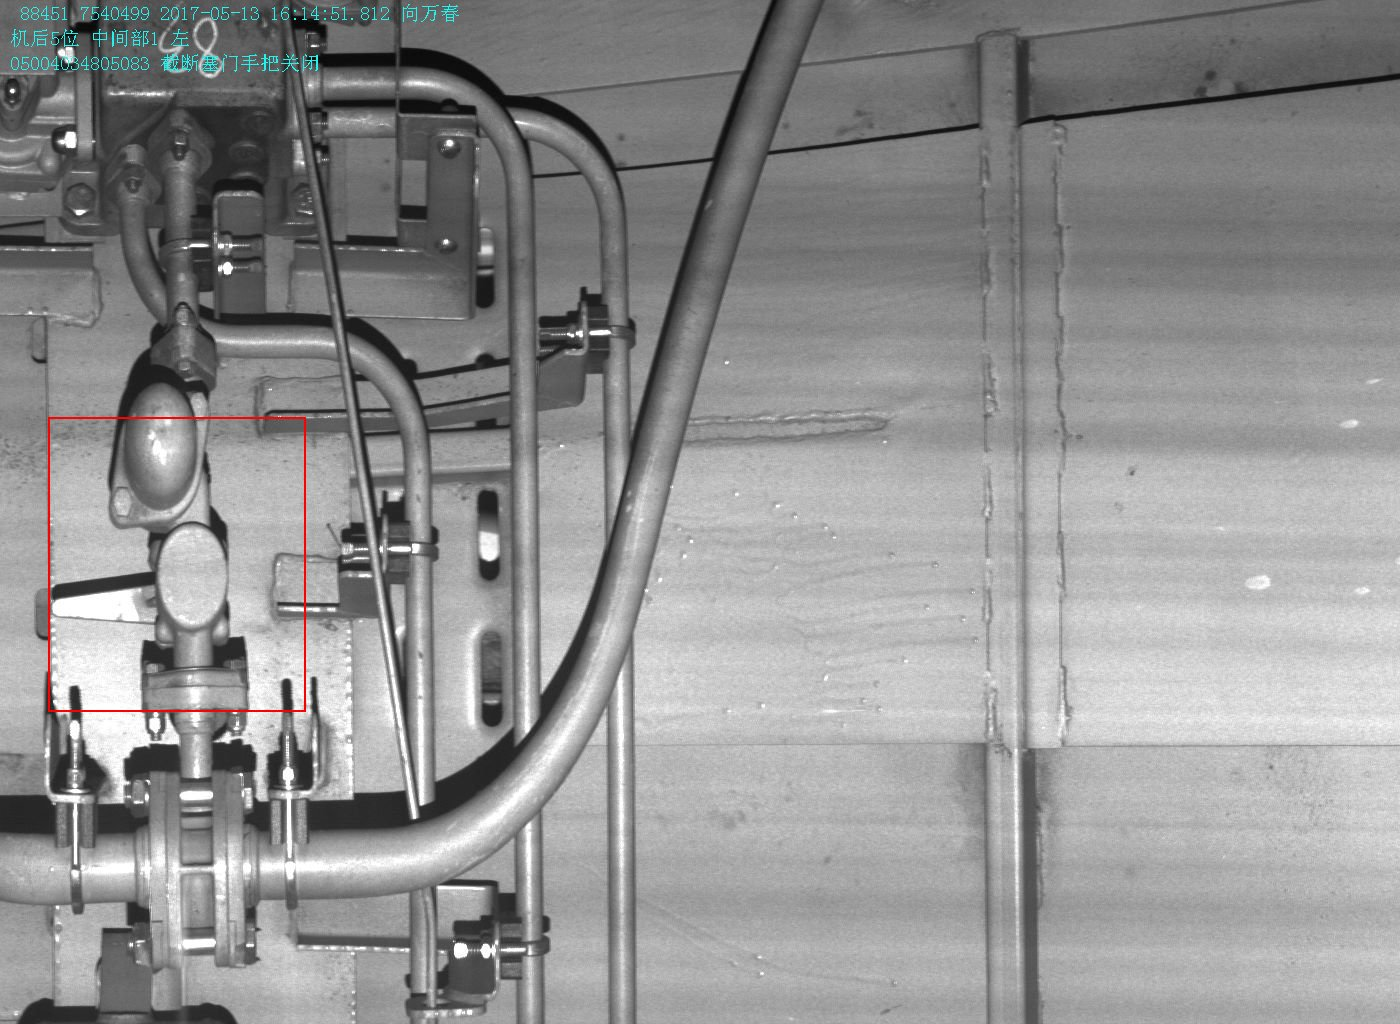truncated plug door handle: (45, 522, 233, 647)
